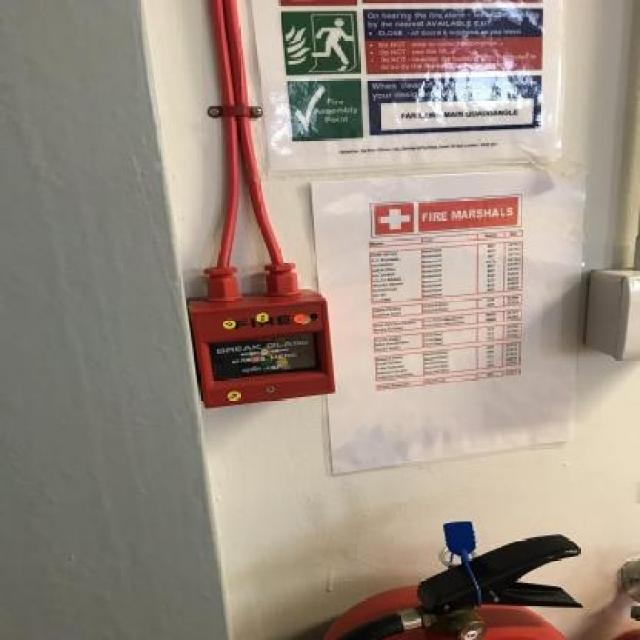fire extinguisher: (328, 531, 583, 640)
